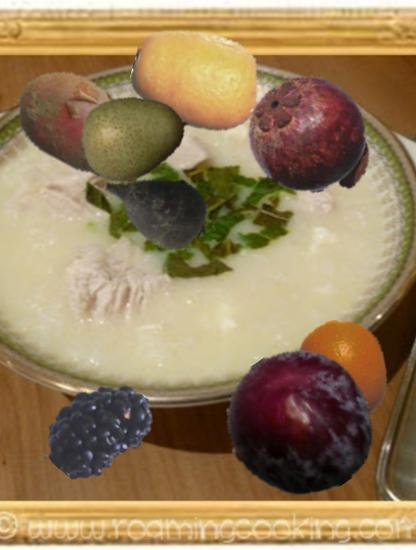Beetroot: (99, 150, 220, 271)
Grapefruit: (288, 320, 393, 425)
Kumquats: (132, 13, 263, 144)
Mangostan: (246, 71, 378, 203)
Mulberry: (43, 374, 155, 486)
Pear: (79, 79, 190, 190)
Plum: (224, 350, 373, 499)
Potato: (12, 54, 158, 200)
